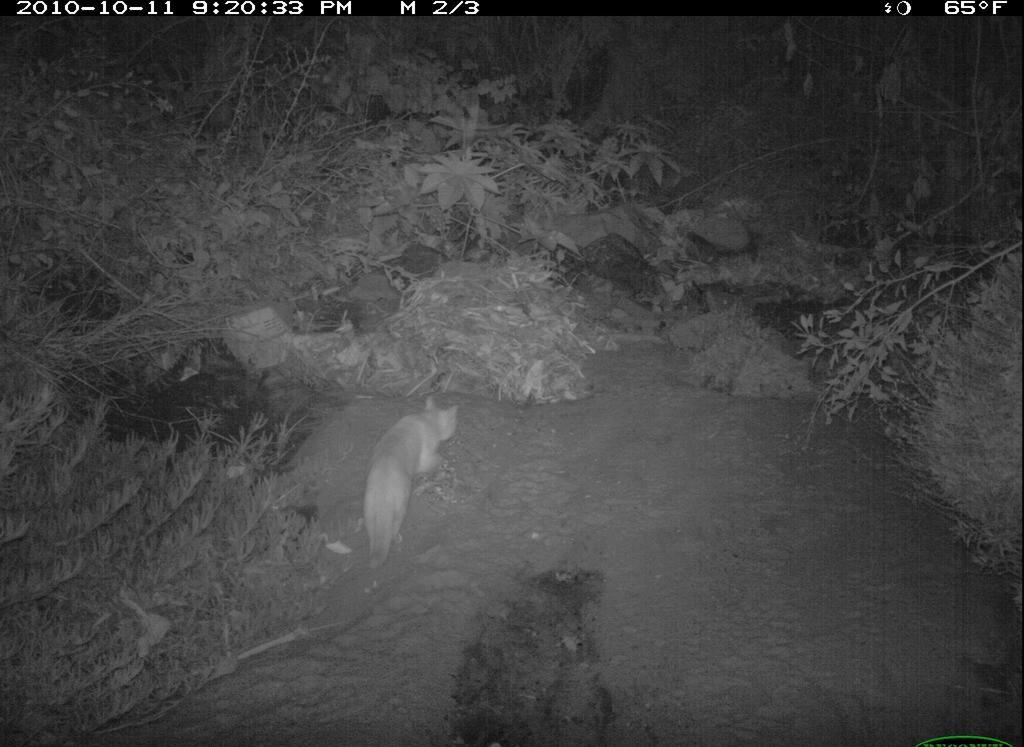cat: (350, 392, 479, 587)
